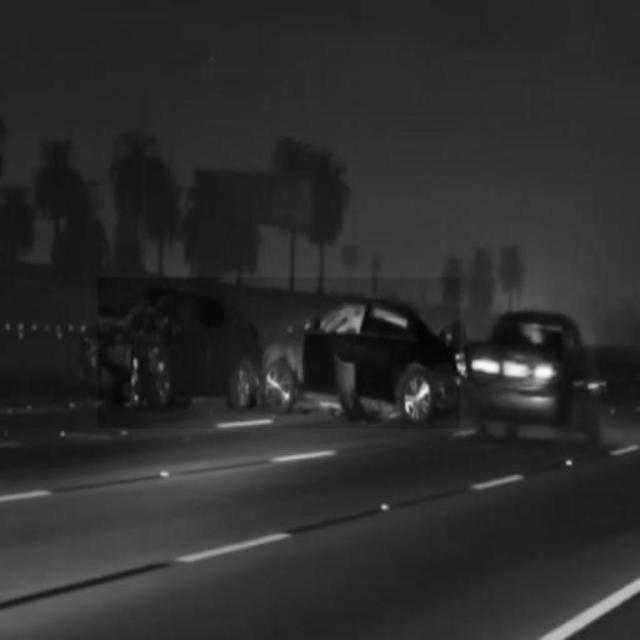accident: (97, 278, 461, 429)
vehicle: (470, 307, 601, 435)
